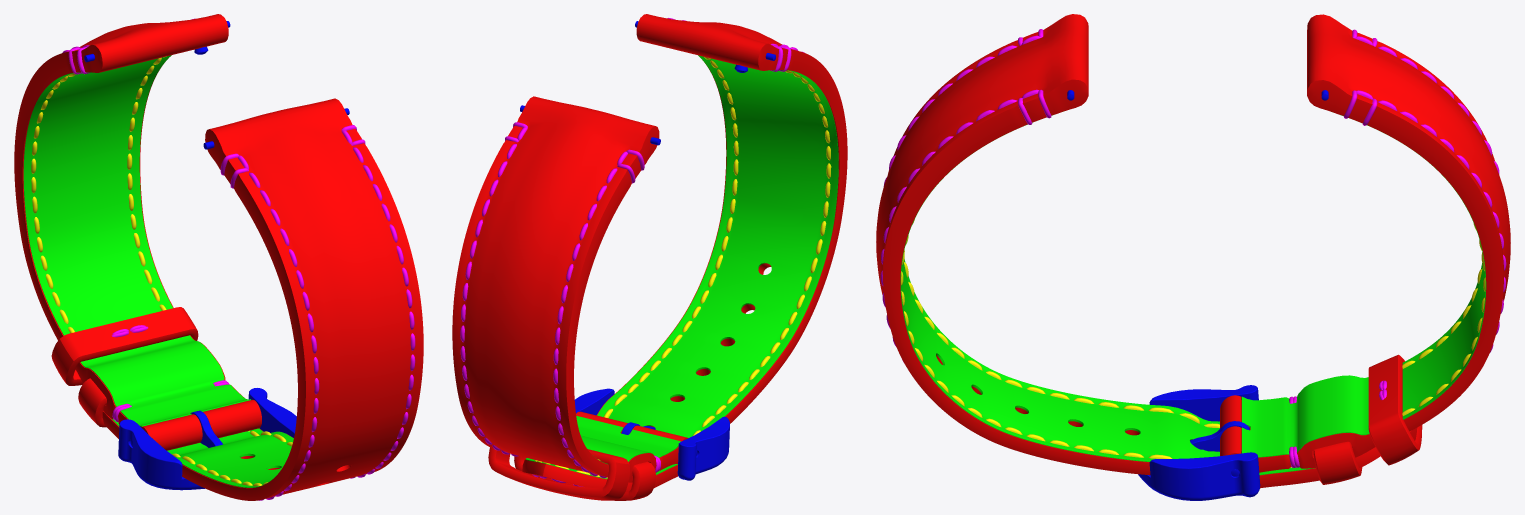
Rendered from Tank_Must_S_Non_Animal.fbx.
3 renders of one model, left to right at view 1: azimuth 30°, elevation 25°; view 2: azimuth 150°, elevation 25°; view 3: azimuth 270°, elevation 25°, orthographic. The views are drawn at different scales.
Parts seen in each view (by area): view 1: Tank_Must_S_Non_Animal; view 2: Tank_Must_S_Non_Animal; view 3: Tank_Must_S_Non_Animal.
Part boxes in pixels (x1,y1,x2,y2): Tank_Must_S_Non_Animal: (14,14,423,500); Tank_Must_S_Non_Animal: (452,14,847,500); Tank_Must_S_Non_Animal: (876,14,1510,500).
Size of the model in its own units: 1.89 by 4.73 by 6.42.
